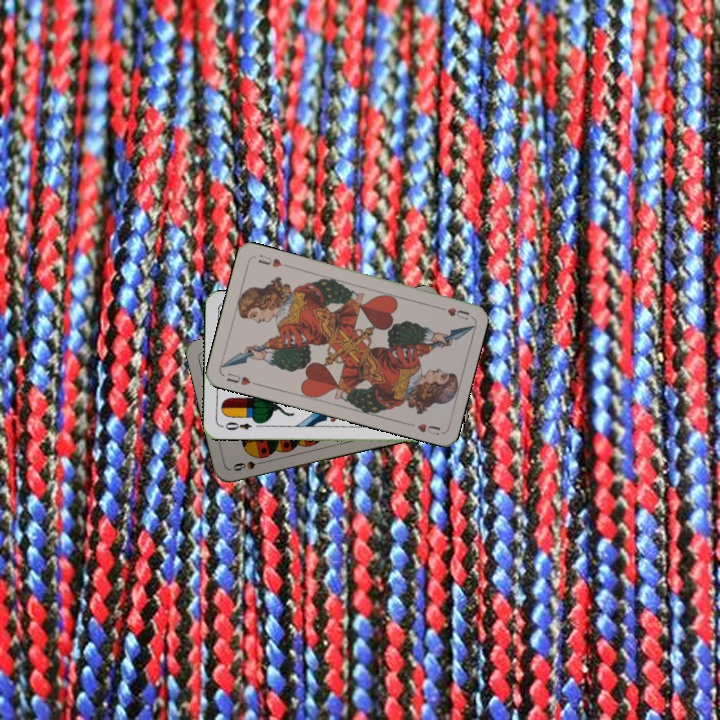EO: (221, 418, 254, 433)
HU: (433, 302, 472, 322), (222, 369, 260, 388)
S9: (229, 456, 268, 474)
